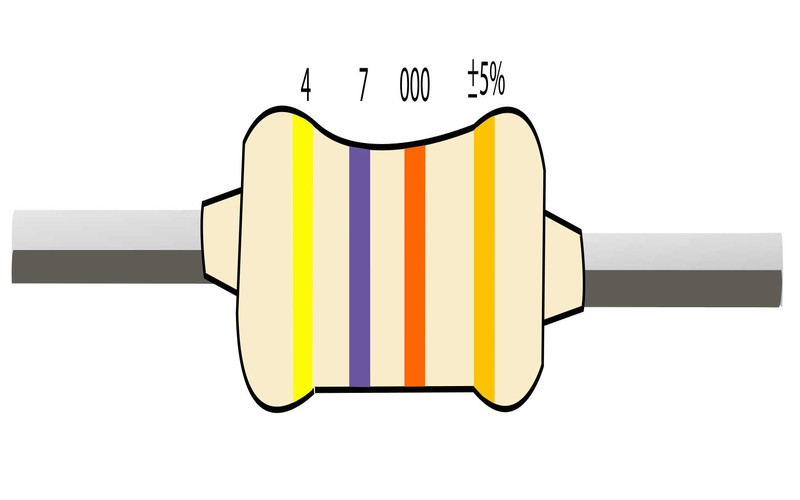Resistor: (174, 96, 598, 443)
